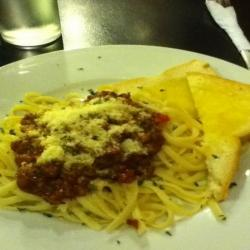bolonese_pasta: (4, 87, 223, 241)
bread: (178, 65, 250, 204)
